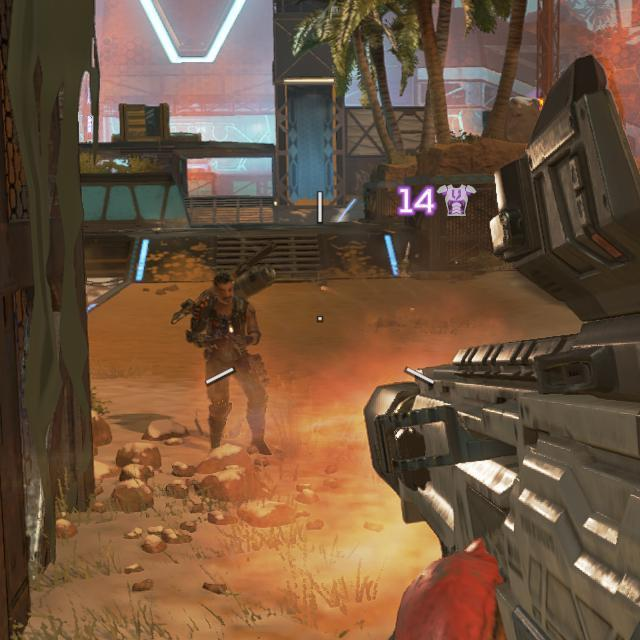avatar: (187, 268, 272, 457)
